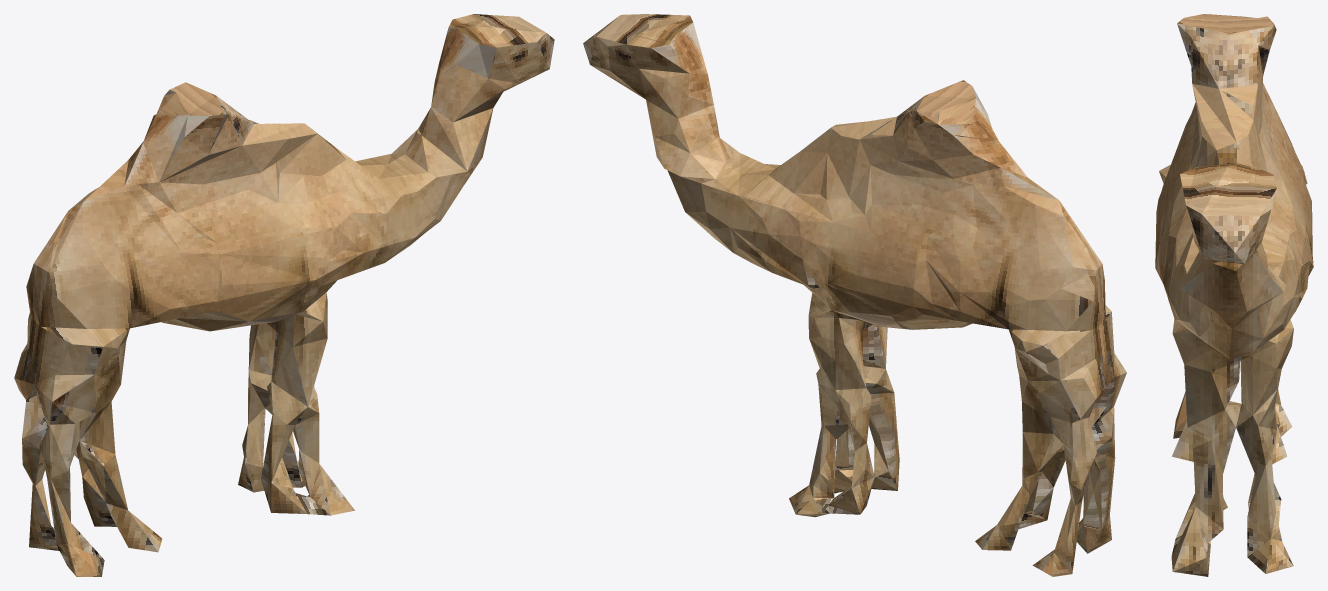
Rendered from animal.montura.dromedario.glb.
The picture shows the model from 3 angles, left to right: view 1: azimuth 30°, elevation 25°; view 2: azimuth 150°, elevation 25°; view 3: azimuth 270°, elevation 25°; orthographic projection. The views are drawn at different scales.
Parts seen in each view (by area): view 1: animal.montura.dromedario; view 2: animal.montura.dromedario; view 3: animal.montura.dromedario.
Part boxes in pixels (x1,y1,x2,y2): animal.montura.dromedario: (14,14,554,576); animal.montura.dromedario: (583,14,1126,576); animal.montura.dromedario: (1155,14,1313,576).
Size of the model in its own units: 3 by 2.39 by 0.6944.
Materials: 1 (1 with a texture image).
